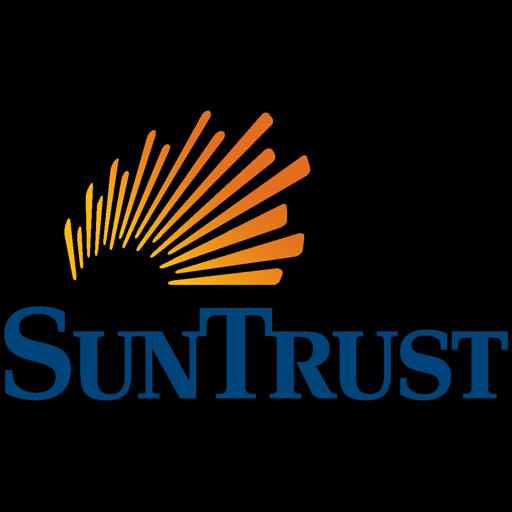SunTrust Bank: (0, 108, 512, 403)
